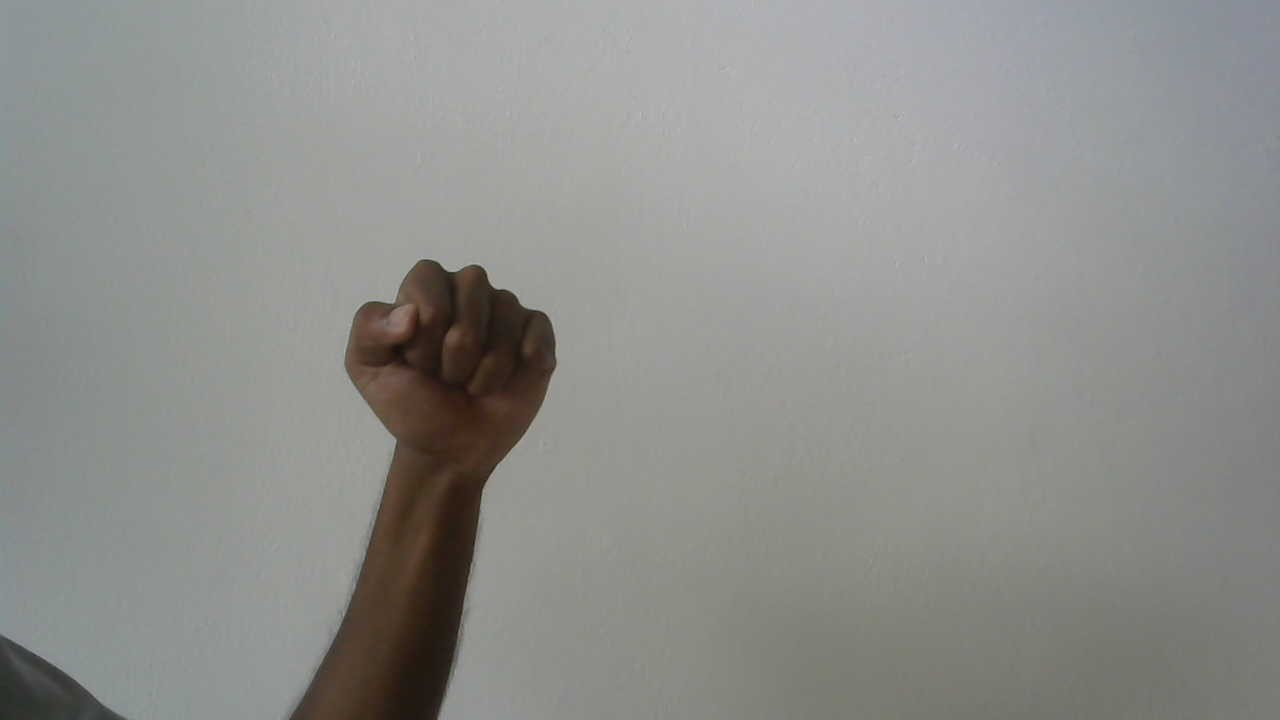yes: (330, 236, 580, 484)
